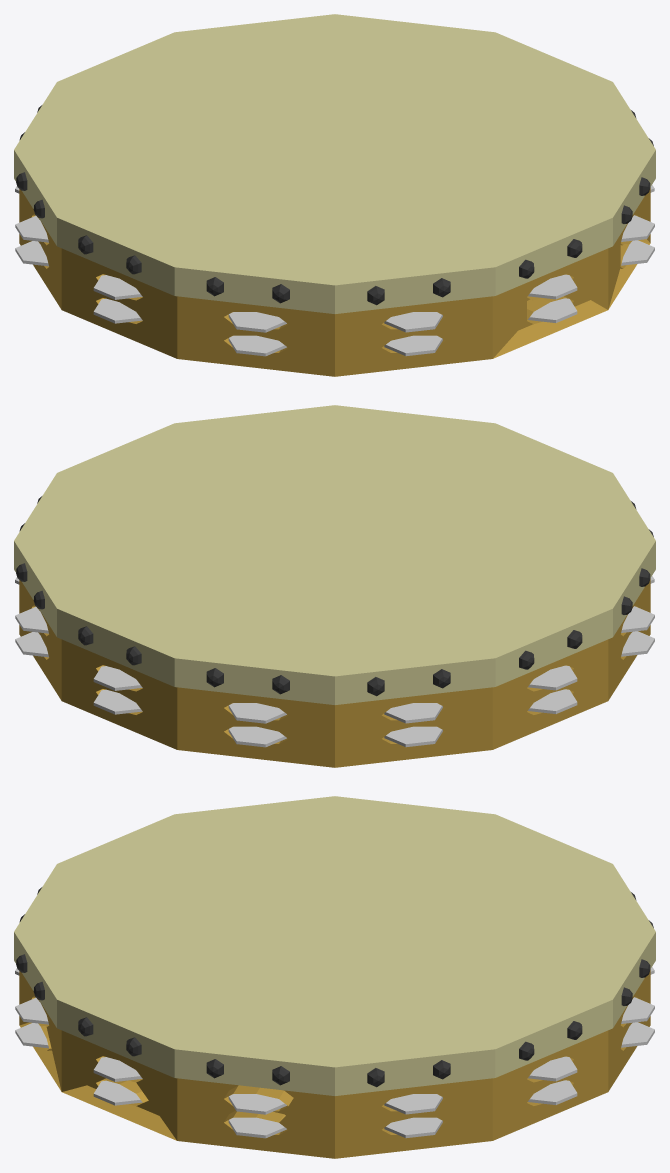
Rendered from TambourineUV.fbx.
3 views of the same model, one above another, from view 1: azimuth 30°, elevation 25°; view 2: azimuth 150°, elevation 25°; view 3: azimuth 270°, elevation 25° (orthographic).
Visible parts, largest first — view 1: Torus; view 2: Torus; view 3: Torus.
Part boxes in pixels (x1,y1,x2,y2): Torus: [14, 14, 655, 376]; Torus: [14, 405, 655, 767]; Torus: [14, 796, 655, 1158].
Bounding box in the file's own units: 209 × 33.65 × 209.
